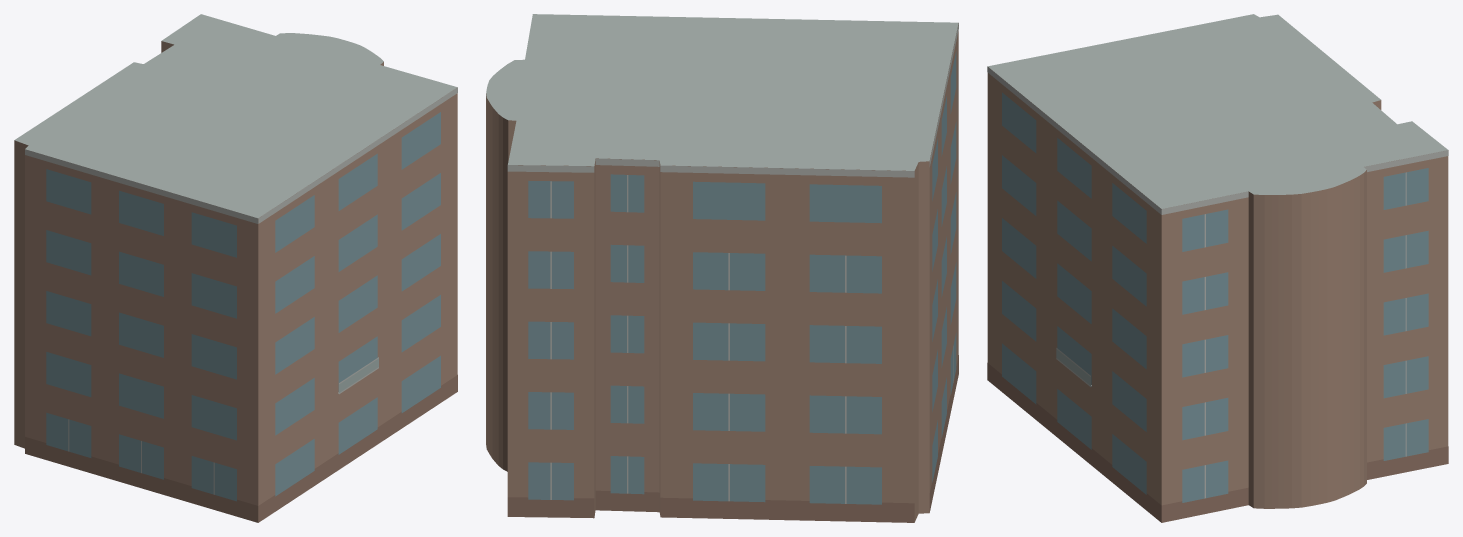
The model's file is survey-upis-33008190.glb.
3 views of the same model, side by side, from view 1: azimuth 30°, elevation 25°; view 2: azimuth 150°, elevation 25°; view 3: azimuth 270°, elevation 25° (orthographic). The views are drawn at different scales.
Visible parts, largest first — view 1: survey-upis-33008190.tmp; view 2: survey-upis-33008190.tmp; view 3: survey-upis-33008190.tmp.
Boxes of the visible parts, bbox=[...] form: survey-upis-33008190.tmp: bbox=[14, 14, 457, 522]; survey-upis-33008190.tmp: bbox=[486, 14, 958, 522]; survey-upis-33008190.tmp: bbox=[987, 14, 1448, 522].
Bounding box in the file's own units: 17.21 × 12.9 × 17.19.
